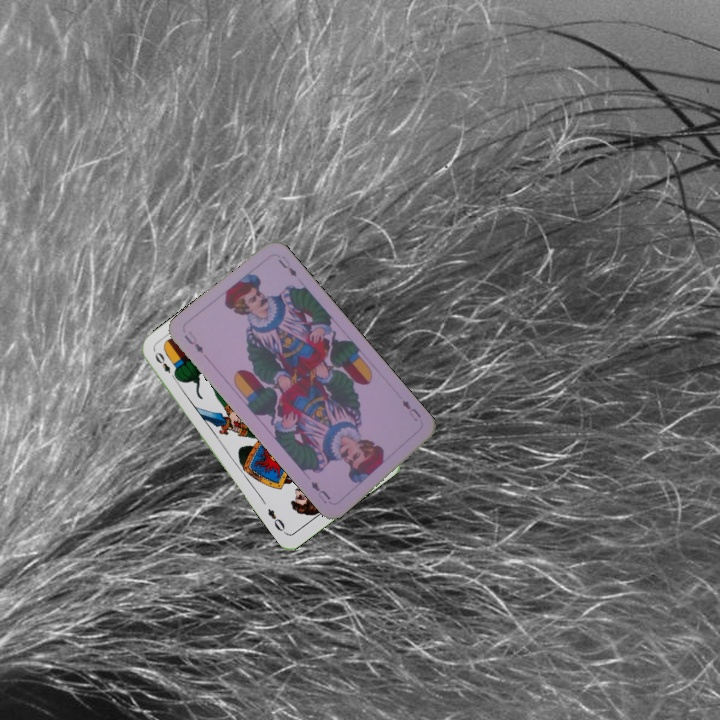EO: (150, 348, 180, 383)
EU: (398, 395, 424, 424), (180, 327, 206, 356)
